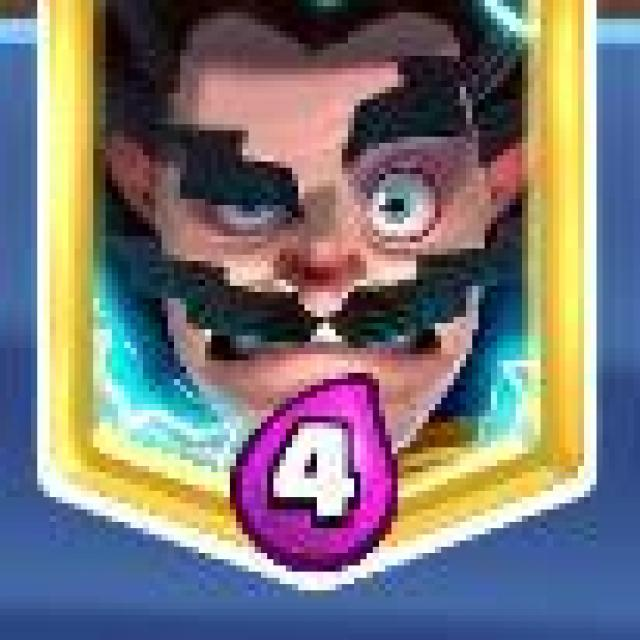Electro_Wizard: (40, 0, 602, 605)
